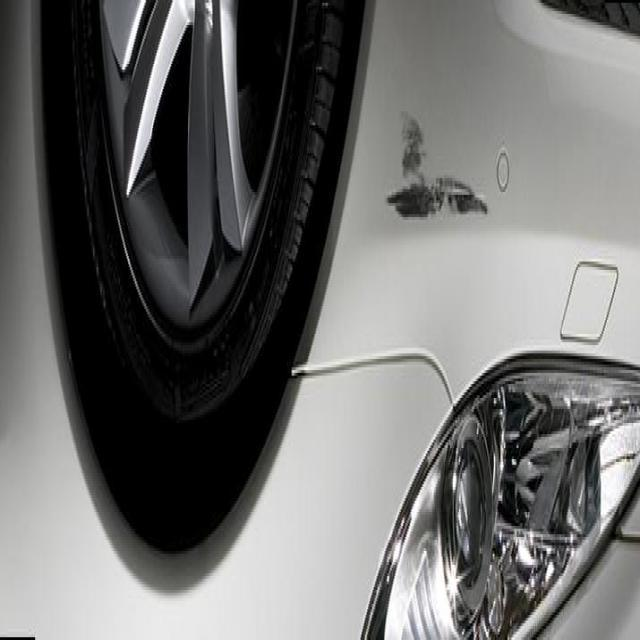scratch: (376, 90, 499, 241)
